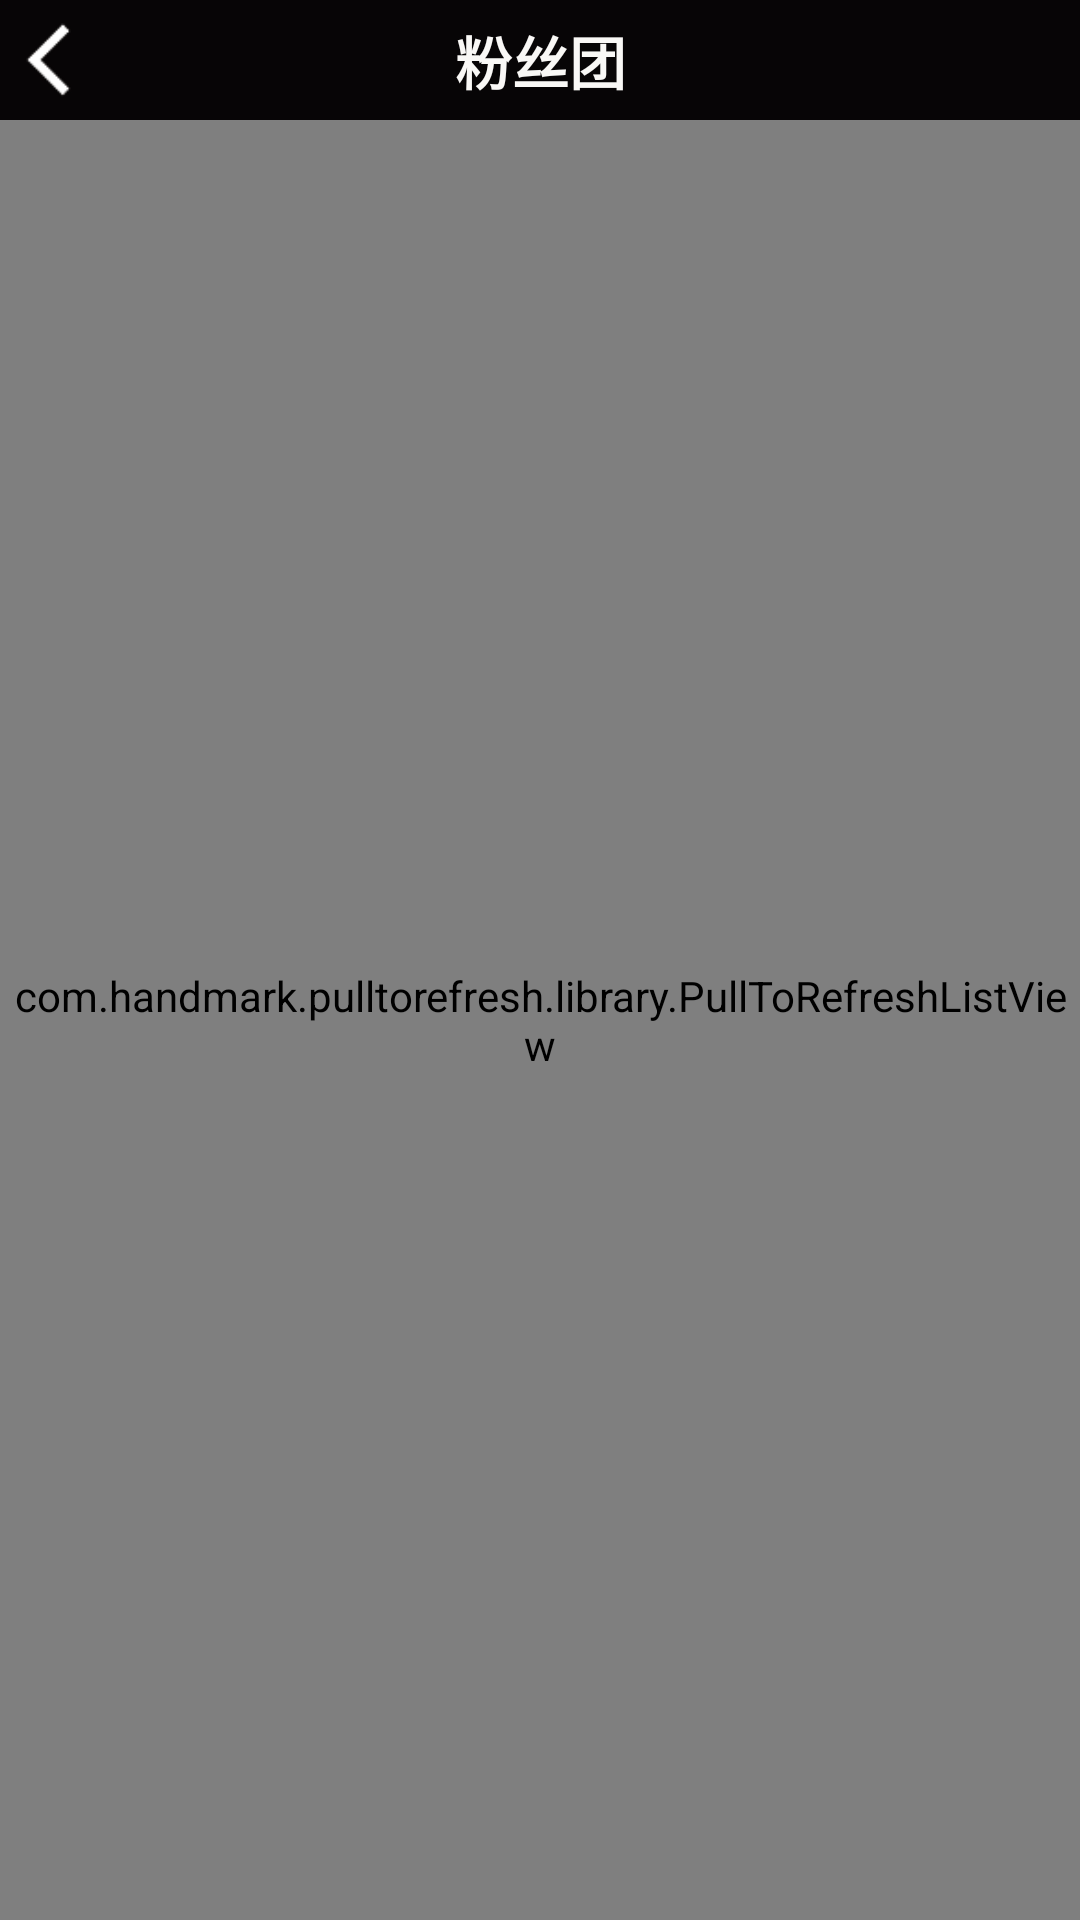

Named icons in this screenshot (1080×1920) and their centers, point (x, y):
back: point (48, 59)
